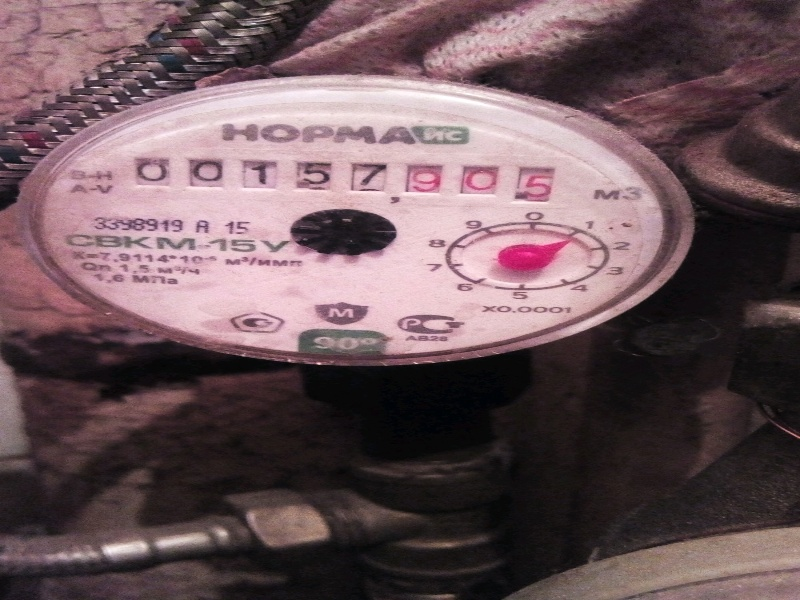meter: (117, 147, 573, 205)
